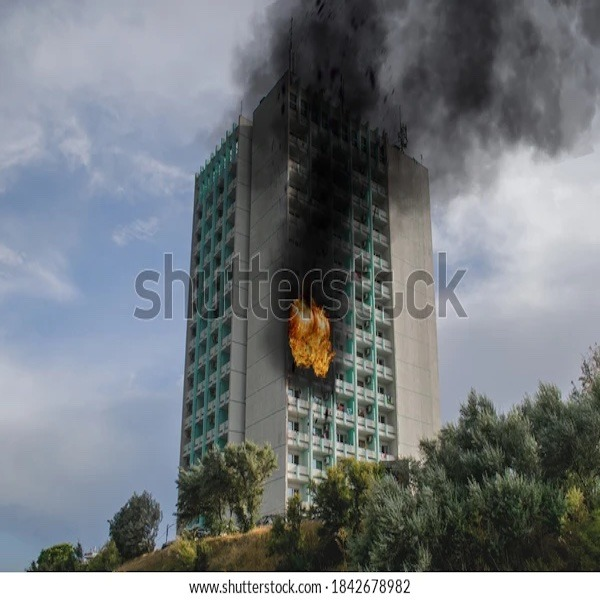fire: (292, 177, 345, 333), (288, 309, 337, 377)
